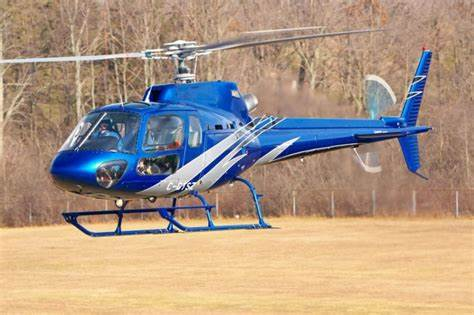Aeronef_commercial: (2, 22, 445, 244)
